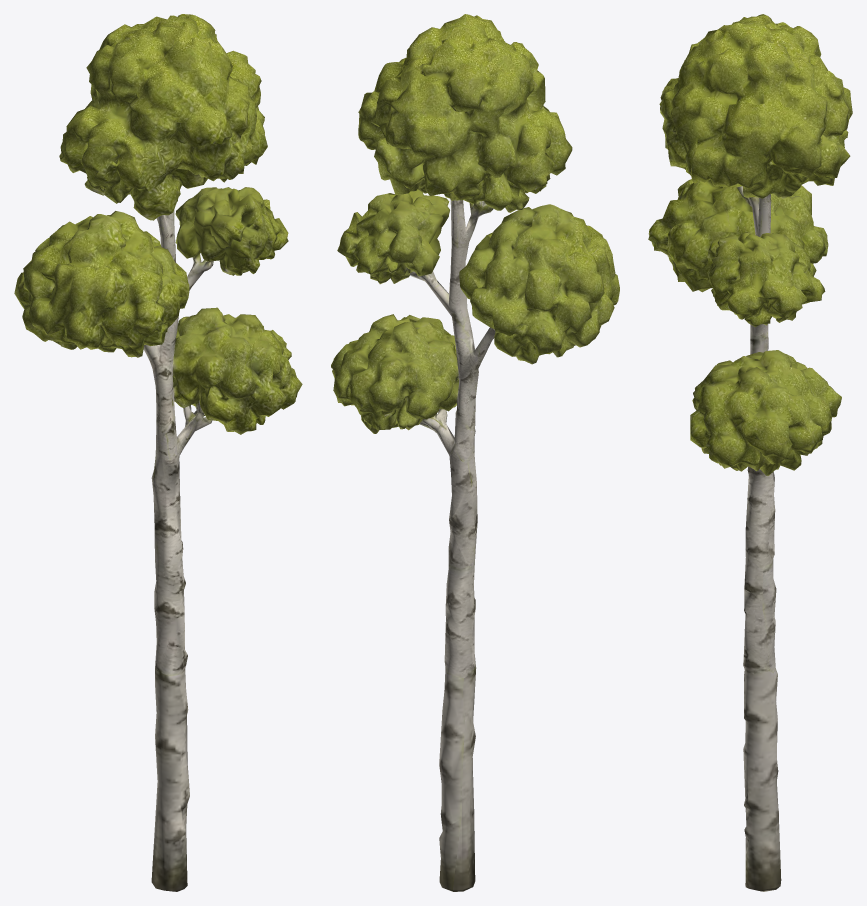
File: abedul_joven_alto.glb
The picture shows the model from 3 angles, left to right: view 1: azimuth 30°, elevation 25°; view 2: azimuth 150°, elevation 25°; view 3: azimuth 270°, elevation 25°; orthographic projection.
Parts seen in each view (by area): view 1: alto; view 2: alto; view 3: alto.
Boxes of the visible parts, bbox=[...] form: alto: bbox=[14, 14, 302, 891]; alto: bbox=[331, 14, 619, 891]; alto: bbox=[648, 14, 852, 891].
Size of the model in its own units: 1.28 by 4 by 0.8565.
1 material, 1 textured.
